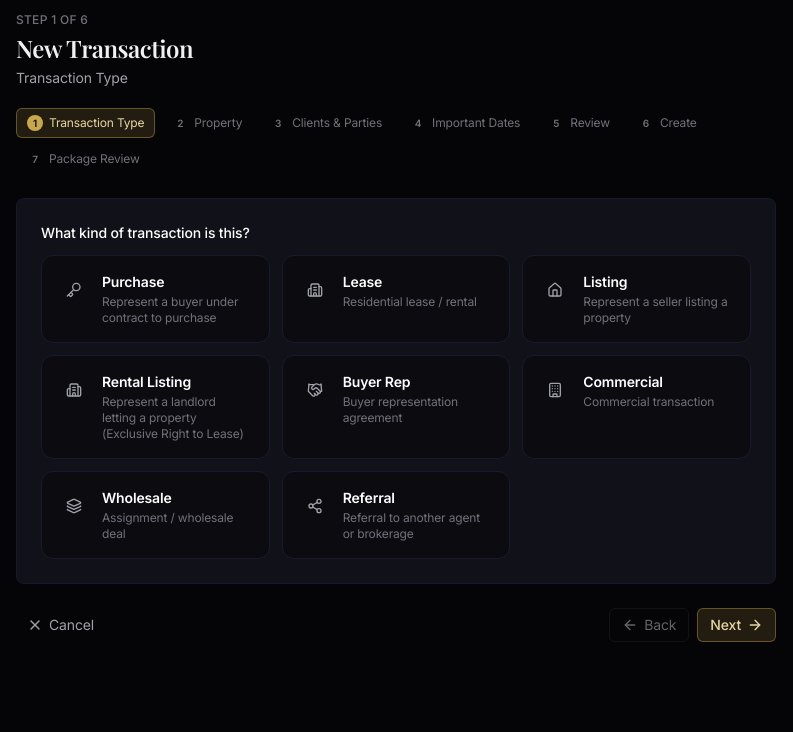
Test case: WizardShell — validation gate (real rules) › blocks Next on the type step until a type is chosen
The image size is (793, 732).
Expected: the element with test id "wizard-step-type" is shown, 41,223 -> 751,559
Step 1. Click the button "Next" → (737, 625), box 697,608 -> 776,642
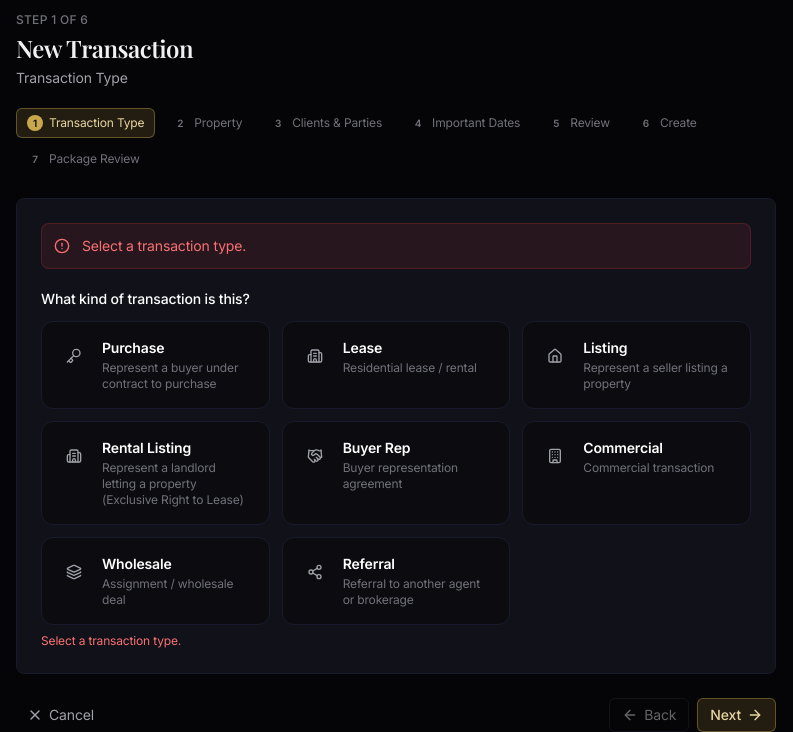
Expected: the element with test id "wizard-step-type" is shown, 41,289 -> 751,649
Now the list item "Select a transaction type." is shown, box 82,236 -> 246,256
